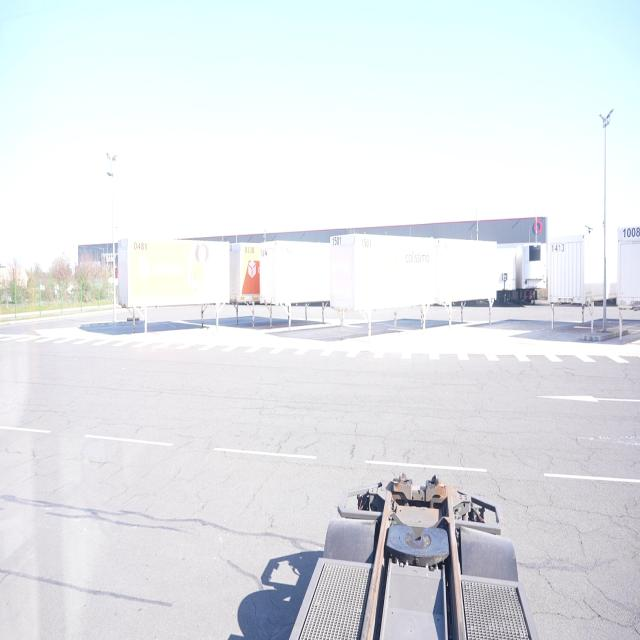Code: (130, 236, 152, 258), (328, 229, 344, 251), (241, 240, 258, 260)
